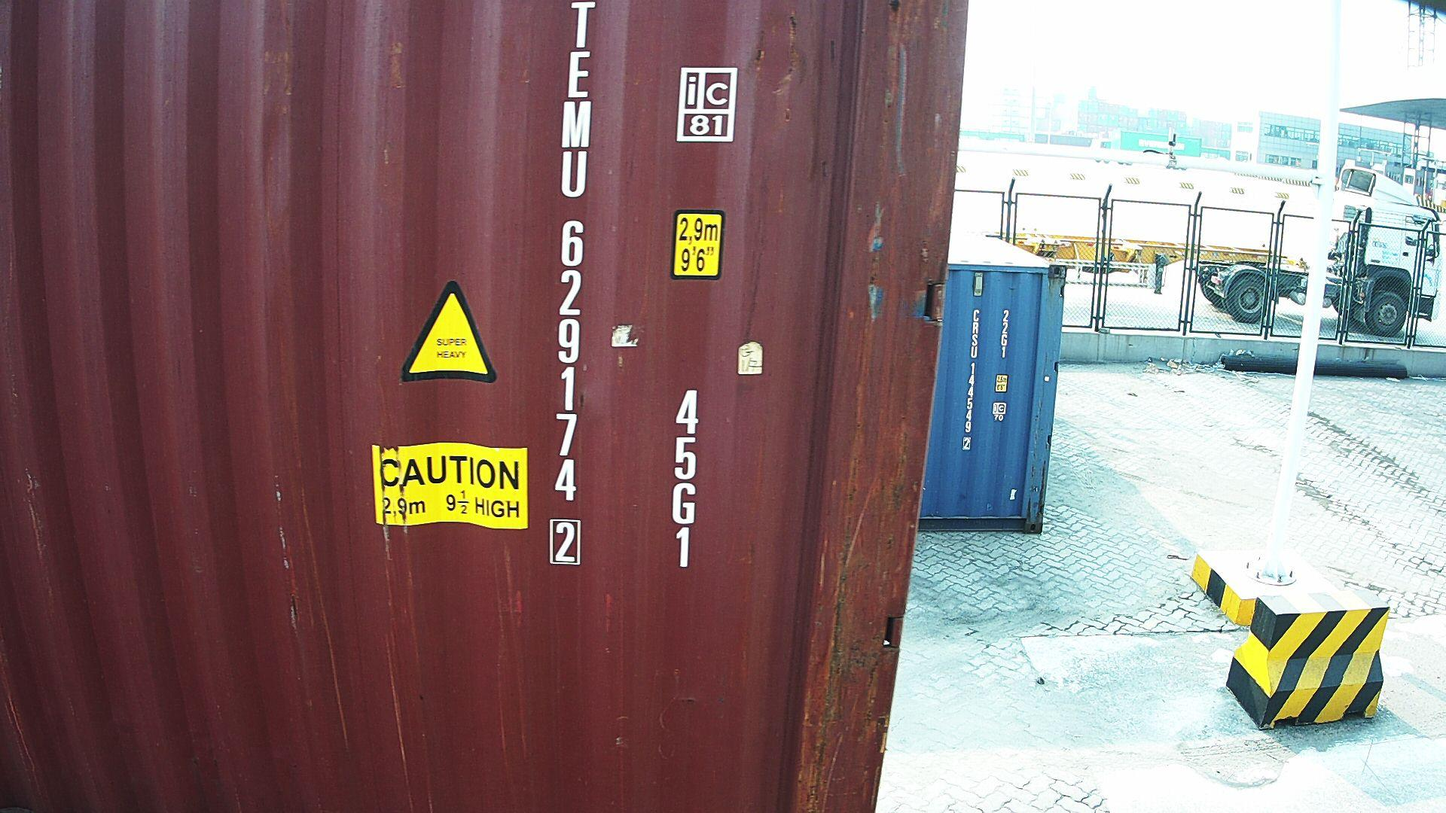container-numbers: (536, 0, 601, 579), (665, 385, 706, 574), (962, 306, 981, 455), (1000, 306, 1011, 356)
